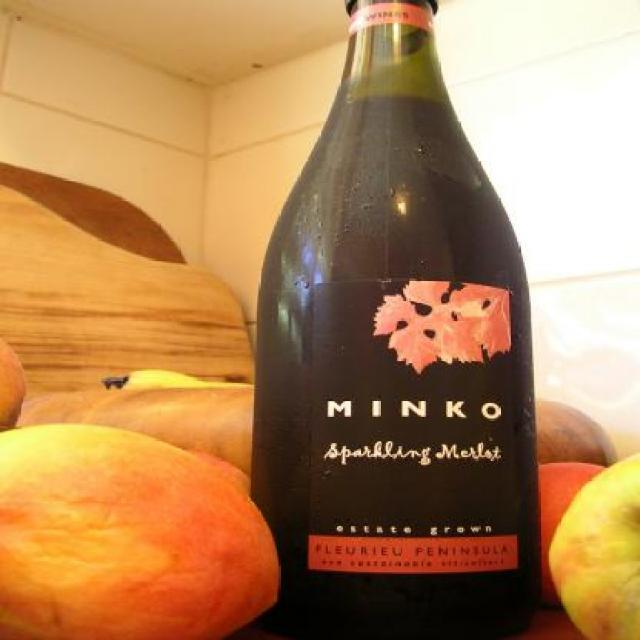Peach: (546, 456, 639, 638)
